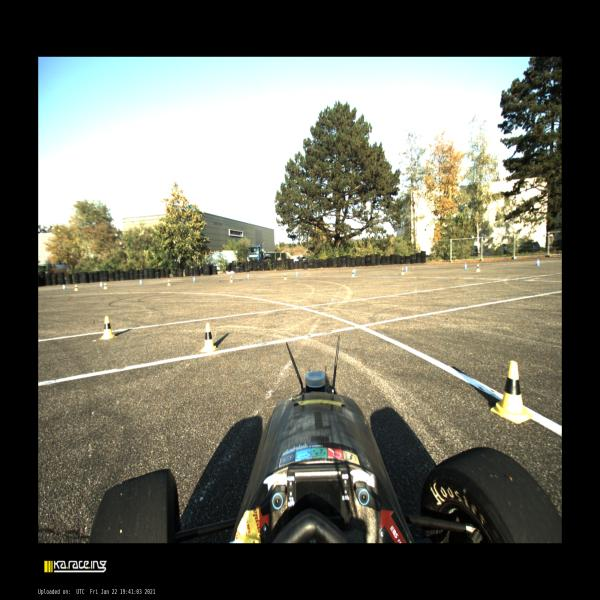blue_cone: (536, 259, 540, 266), (464, 263, 468, 269), (405, 266, 408, 272), (100, 282, 103, 287), (193, 277, 196, 282), (247, 274, 250, 279), (354, 268, 356, 274), (296, 271, 298, 276), (63, 285, 65, 289), (140, 280, 142, 284)
yellow_cone: (490, 362, 532, 422), (199, 322, 218, 352), (99, 315, 116, 339), (351, 270, 356, 278), (476, 264, 480, 272), (400, 268, 404, 275), (229, 276, 233, 283), (167, 280, 171, 286), (74, 285, 78, 291), (104, 283, 107, 289), (284, 274, 287, 279)
